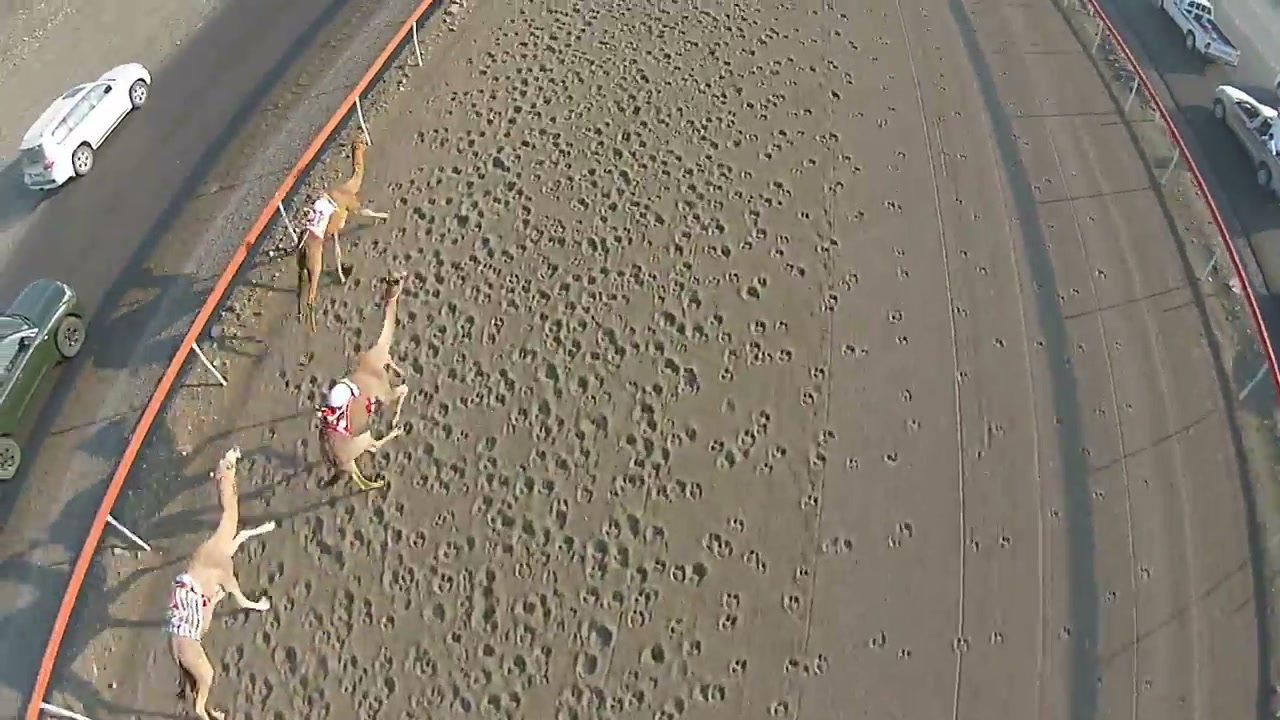animal_footprint: (209, 9, 797, 717)
